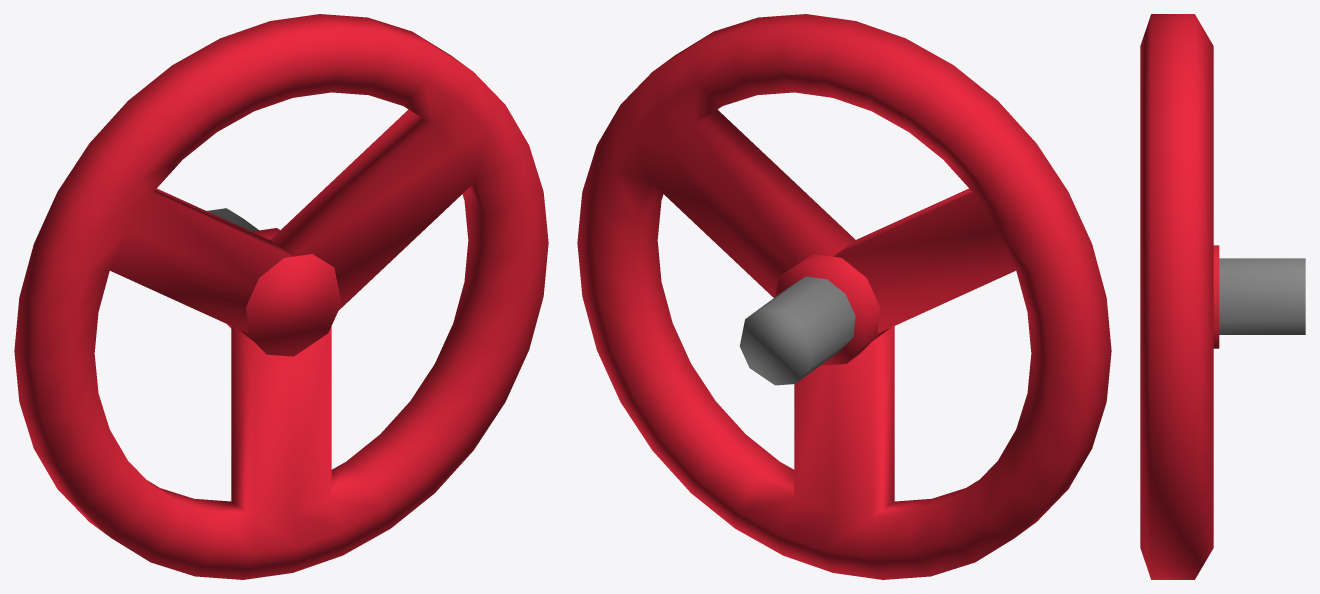
The model's file is valve.glb.
The picture shows the model from 3 angles, left to right: view 1: azimuth 30°, elevation 25°; view 2: azimuth 150°, elevation 25°; view 3: azimuth 270°, elevation 25°; orthographic projection. The views are drawn at different scales.
Visible parts, largest first — view 1: valve; view 2: valve; view 3: valve.
Boxes of the visible parts, box(x1,y1,x2,y2) form: valve: box(14, 14, 548, 579); valve: box(577, 14, 1111, 579); valve: box(1140, 14, 1305, 579).
Size of the model in its own units: 0.6 by 0.6 by 0.1749.
